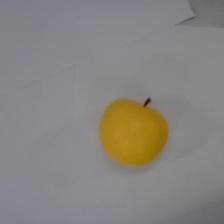yellow: (99, 95, 169, 166)
